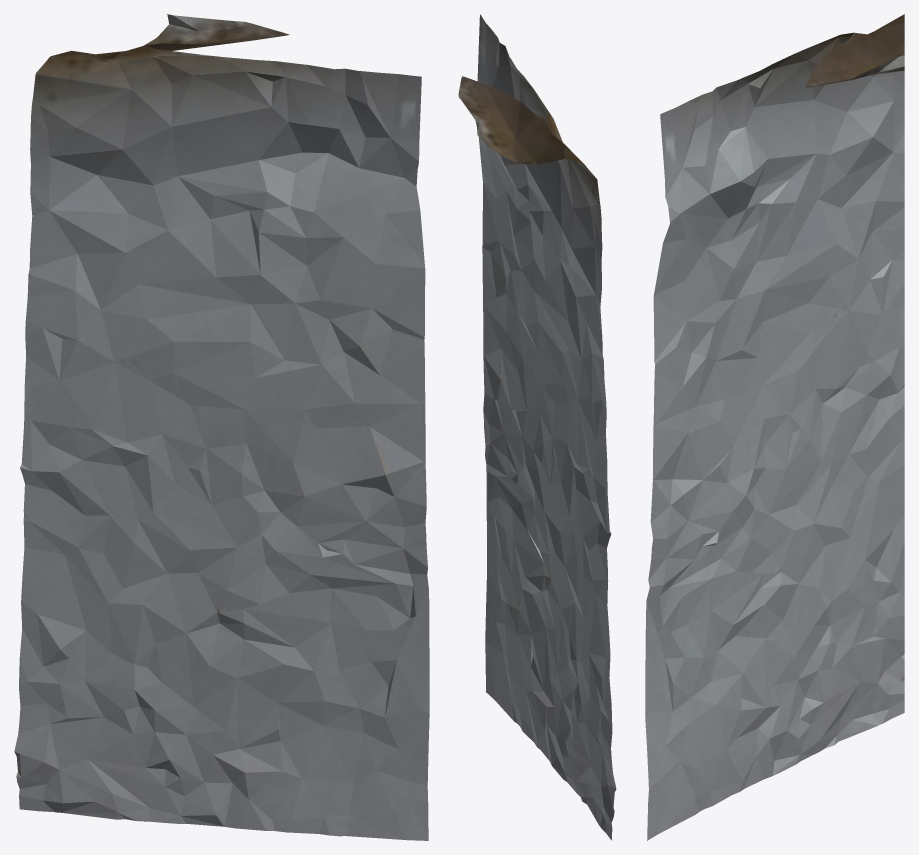
3 views of the same model, side by side, from view 1: azimuth 30°, elevation 25°; view 2: azimuth 150°, elevation 25°; view 3: azimuth 270°, elevation 25° (orthographic). The views are drawn at different scales.
Size of the model in its own units: 0.6455 by 1.67 by 0.542.
2 materials, 2 textured.
